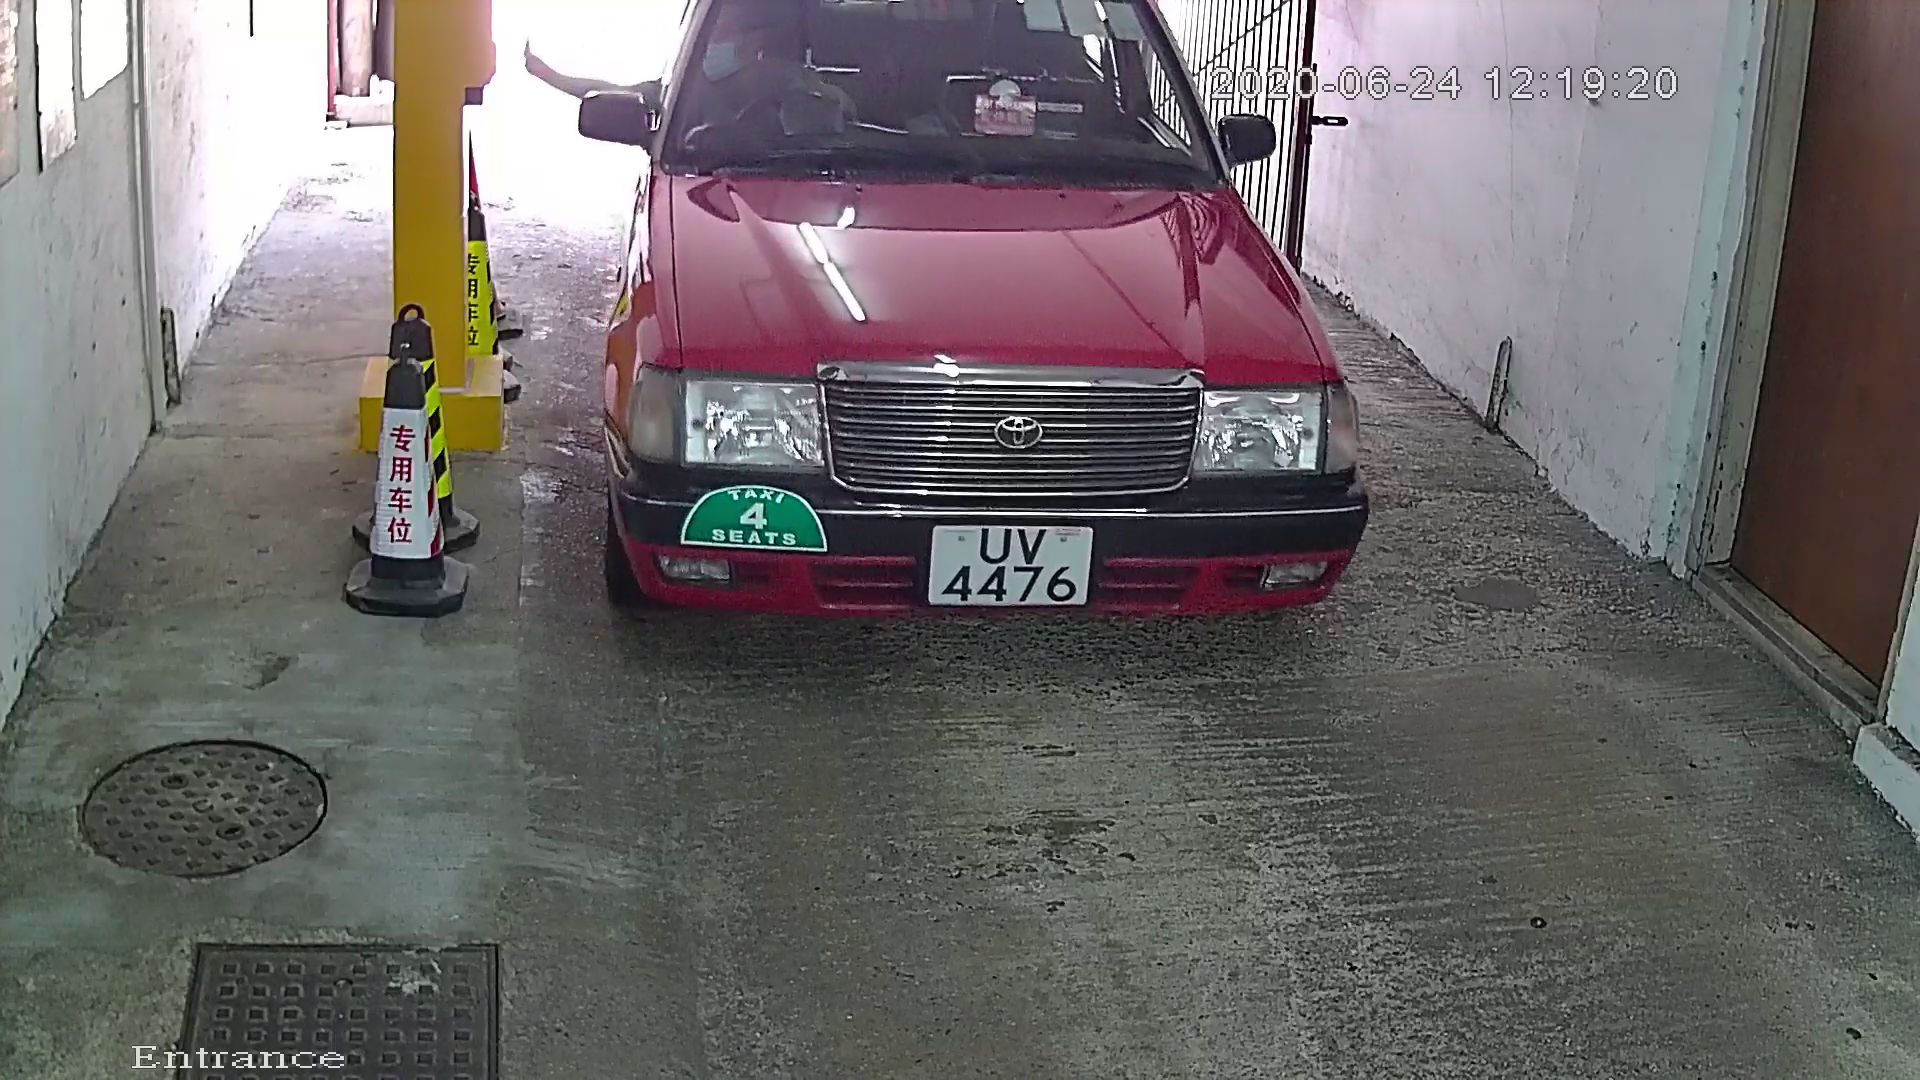Car: (530, 1, 1448, 734)
License Plate: (911, 504, 1108, 638)
